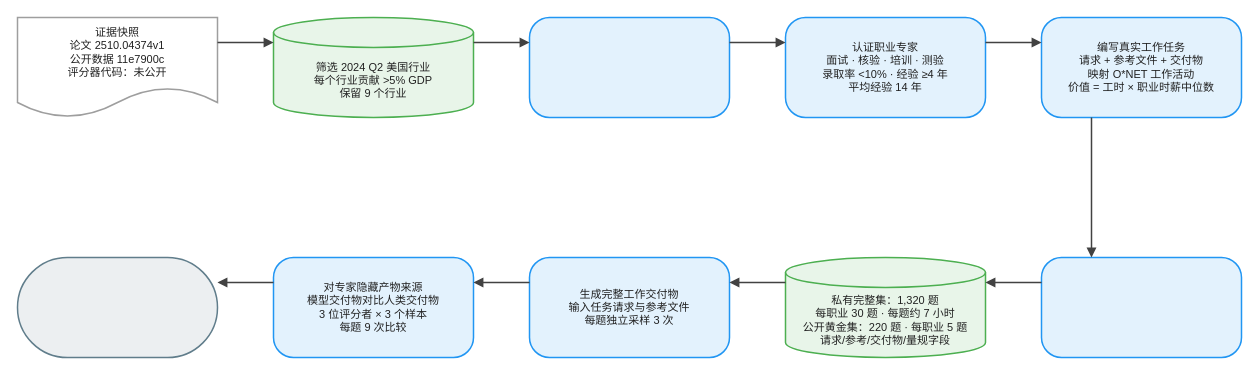
This 1260x376 diagram has some shape labels left out. The centre of each missing label's shape, as x and y in pixels:
筛查、评审并迭代修订 模型标记只作建议 至少 3 次人工评审 平均 5 次人工评审: point (1141, 307)
筛选数字化职业 GPT-4o 分类 O*NET 任务 加权数字化占比 ≥60% 按薪酬选取得到 44 个职业: point (629, 67)
胜 1 · 平 0.5 · 负 0 主文：更好或持平占比 附录：仅胜出率 按职业及总体报告: point (117, 307)
